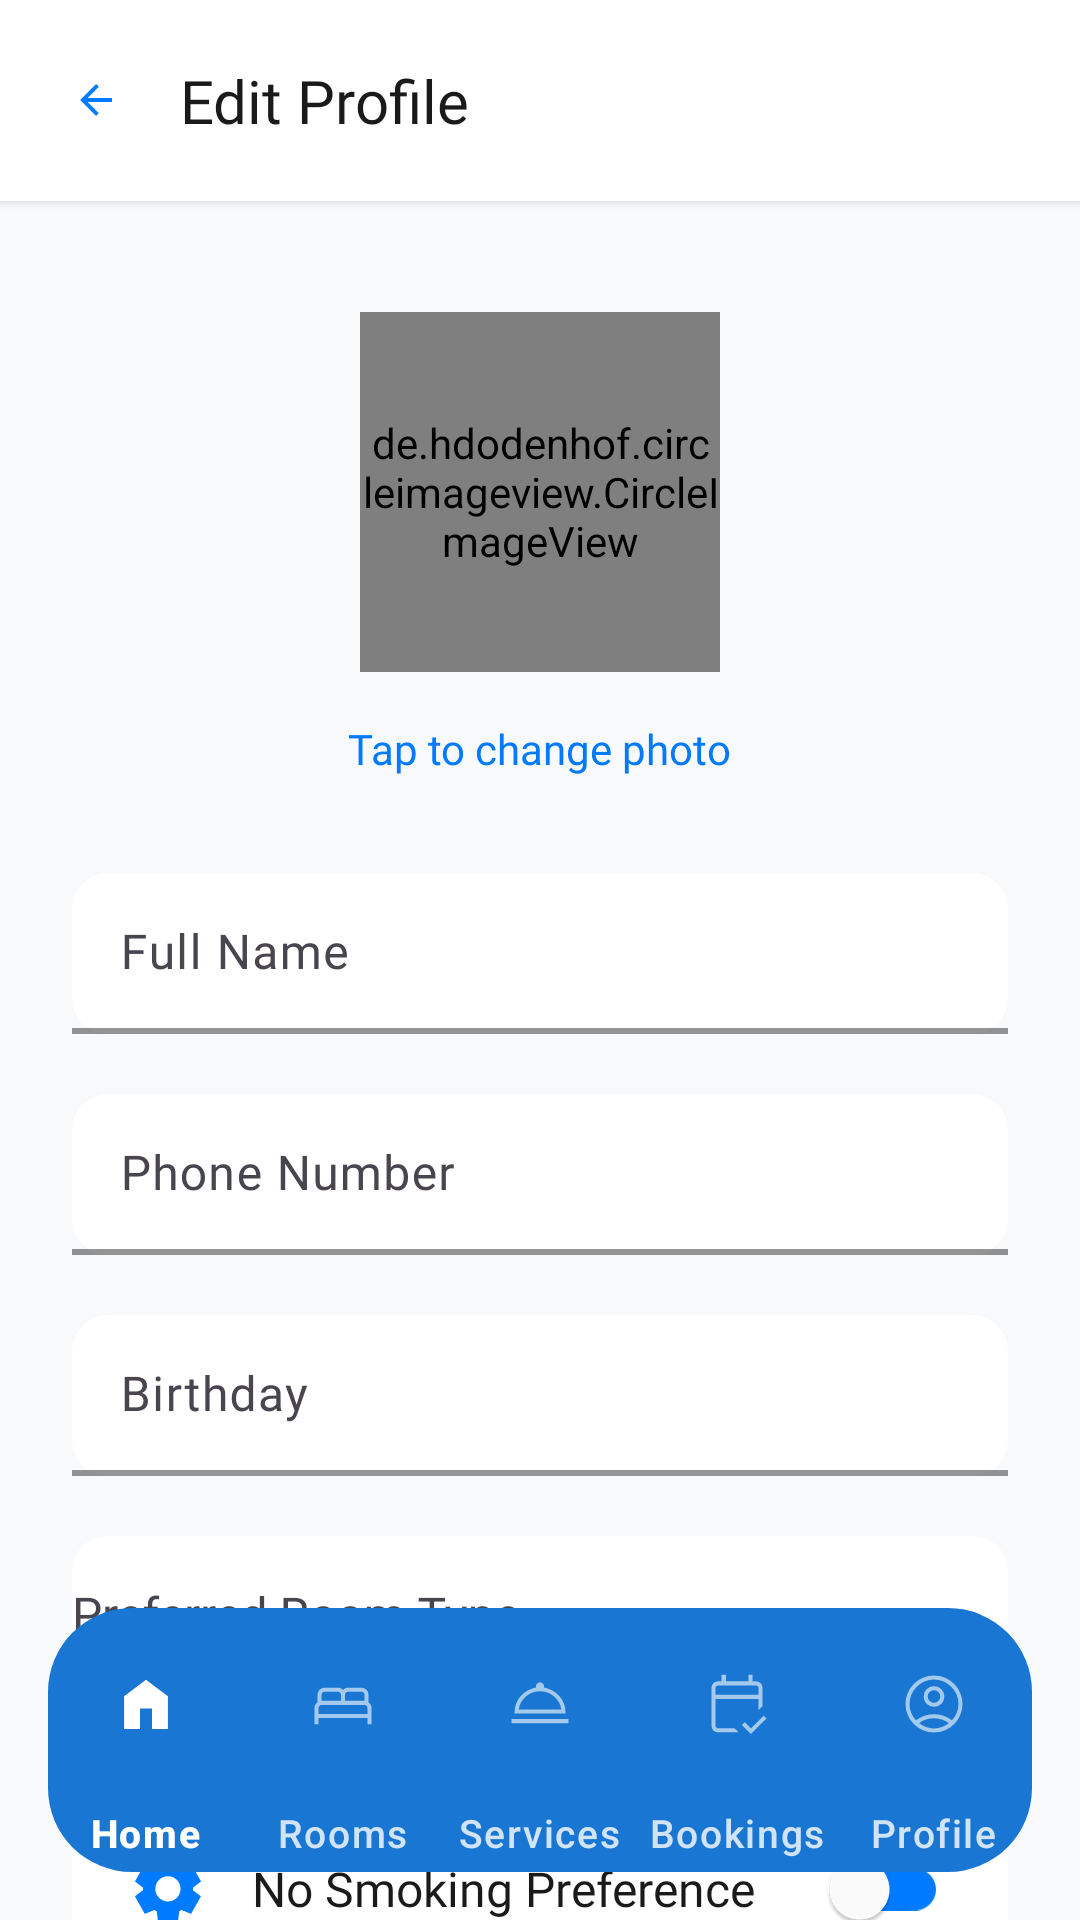

Screen size 1080x1920. Icon name, then its center in pixels as point (x, y):
Back: point (96, 100)
settings: point (168, 1886)
